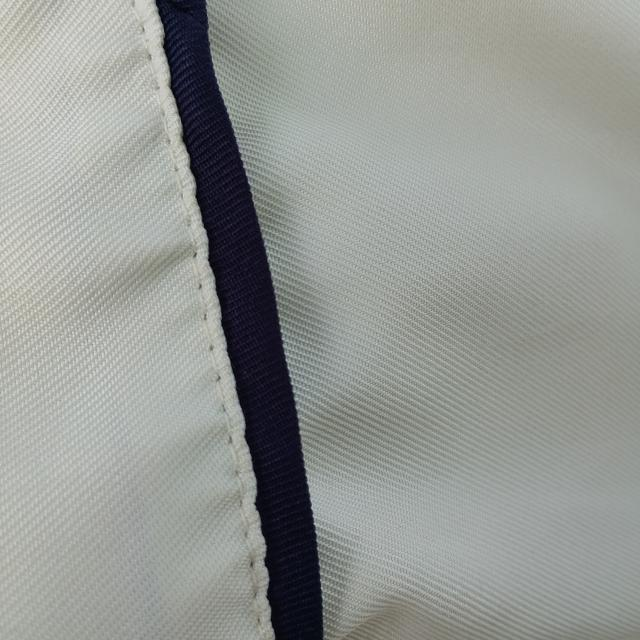education_male_uniform: (12, 11, 410, 608)
